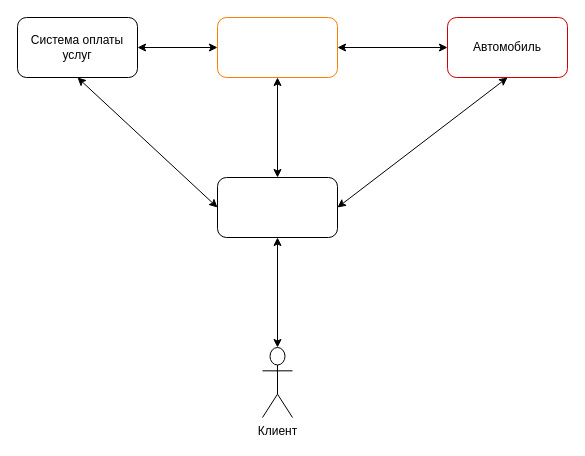
This 585x456 diagram has some shape labels left out. Here are the shapes that lost their labels. From the top down, the box of each, then its label:
(216, 16, 338, 78): Система управления автомобилем
(216, 176, 338, 238): Мобильное приложение клиента
